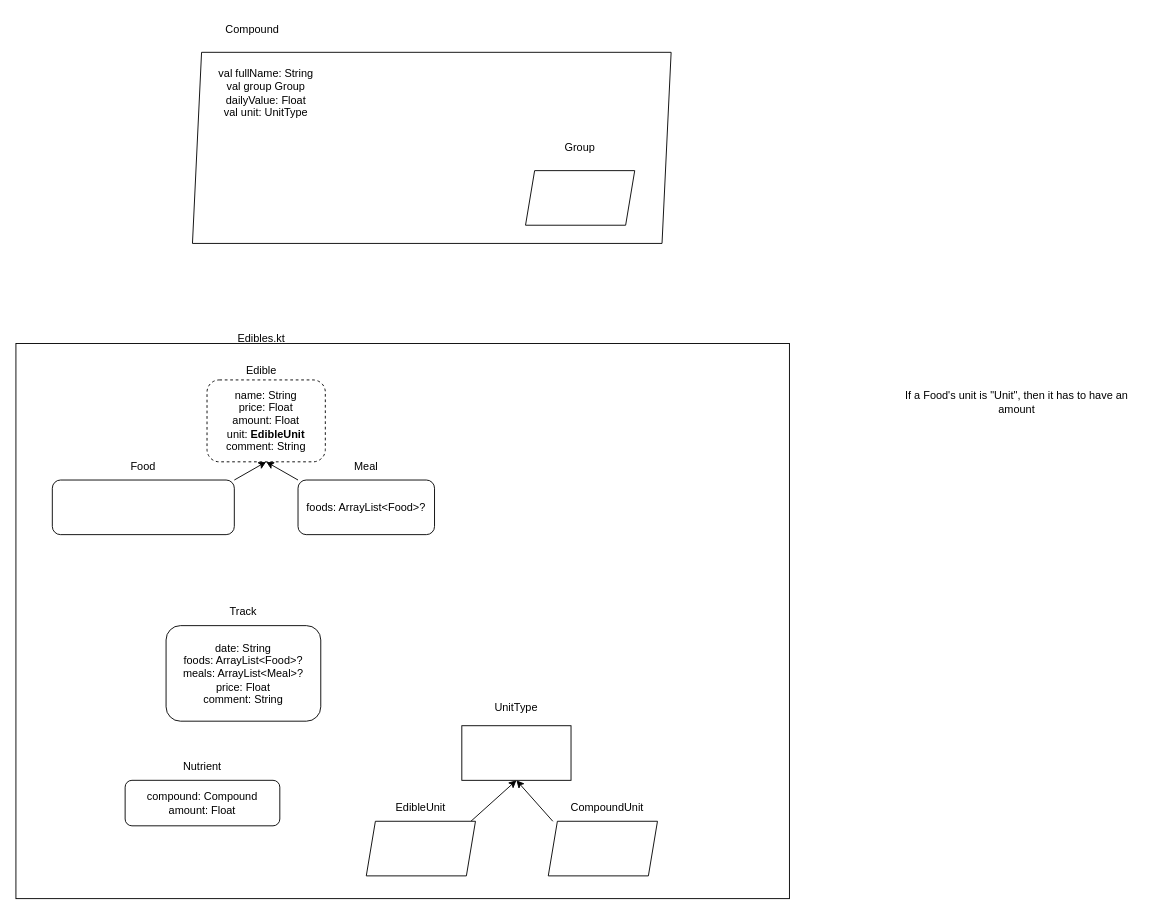
Some shapes in this 1160 by 915 pixel diagram are drawn without their labels. Each missing label, with the box of its shape:
nutrients: ArrayList<Nutrient>? selfNutritionDataURL: String: (51, 479, 234, 535)
val fullName: String: (461, 725, 571, 780)
